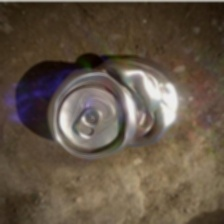can: (45, 53, 183, 162)
